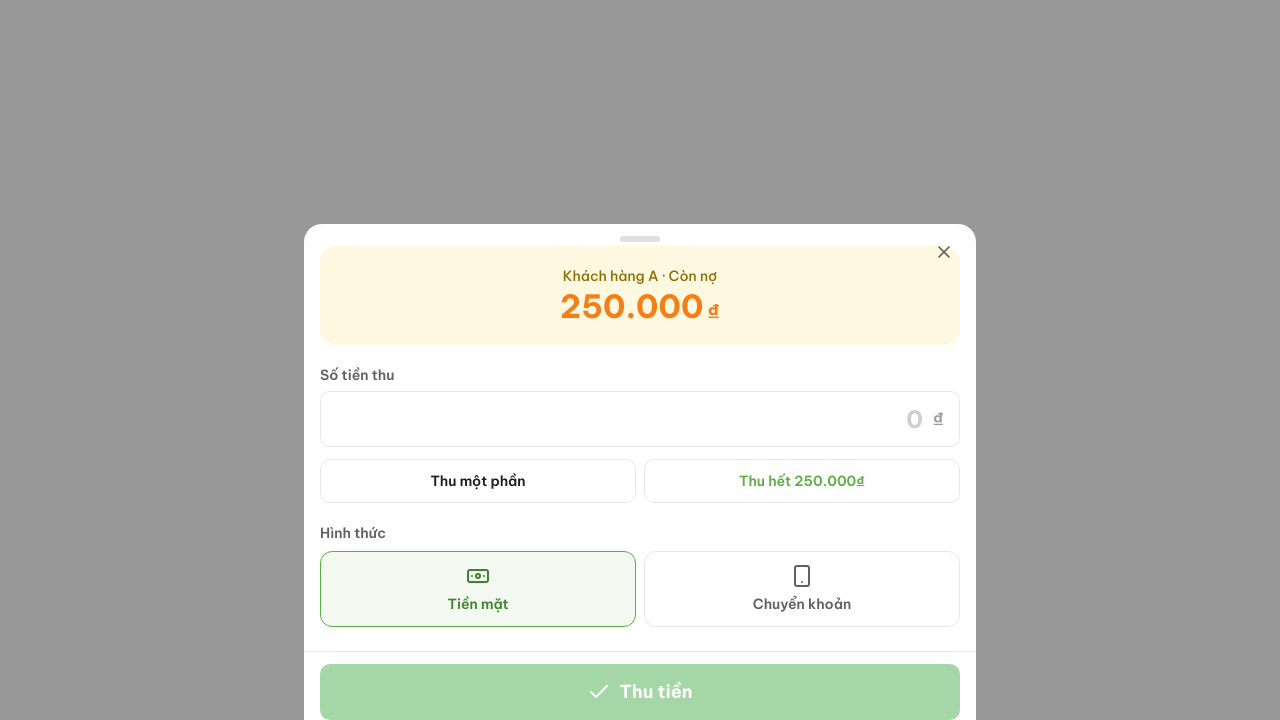
CollectPaymentSheet transfer › prevents duplicate debt voucher confirmation
The width and height of the screenshot is (1280, 720).
Click the button "Thu hết 250.000₫" at [802, 481], box left=644, top=459, right=960, bottom=503
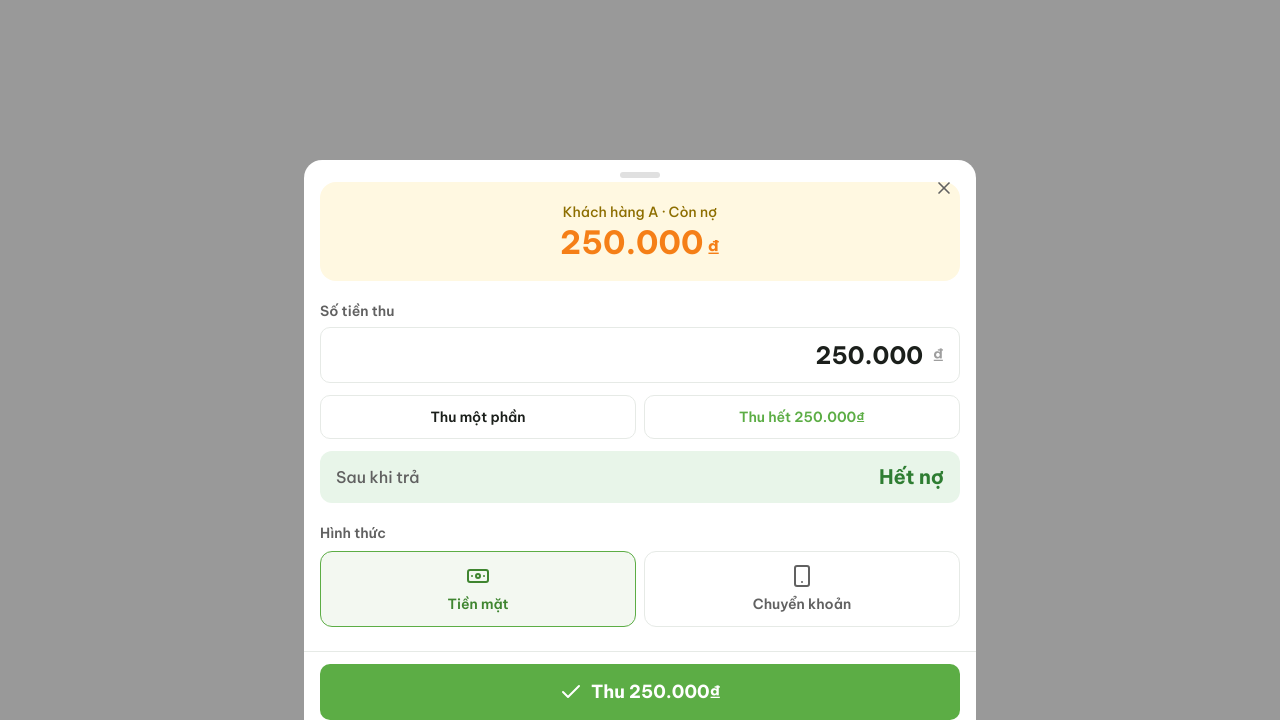
Click the button "Thu 250.000₫" at [640, 692], box left=320, top=664, right=960, bottom=719
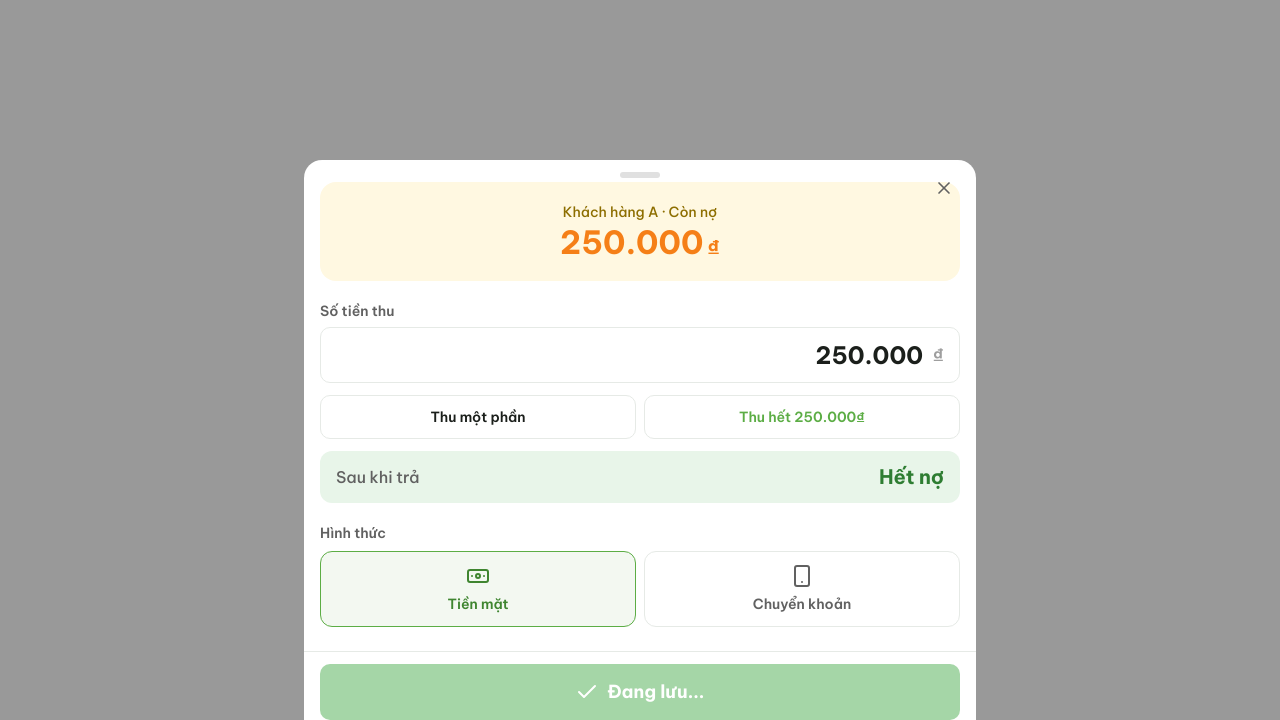
Click the button named "Thu 250.000₫" at [640, 692], box left=320, top=664, right=960, bottom=719
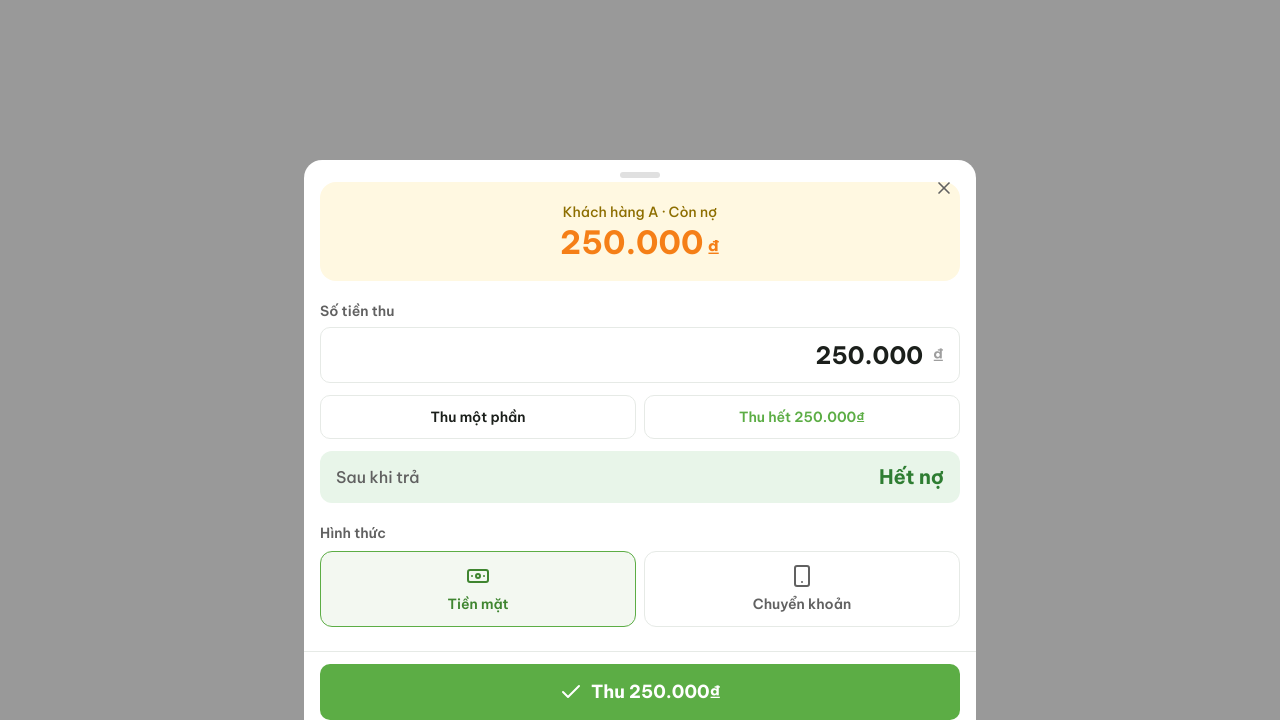
Check: the button "Thu 250.000₫" is enabled, box left=320, top=664, right=960, bottom=719
